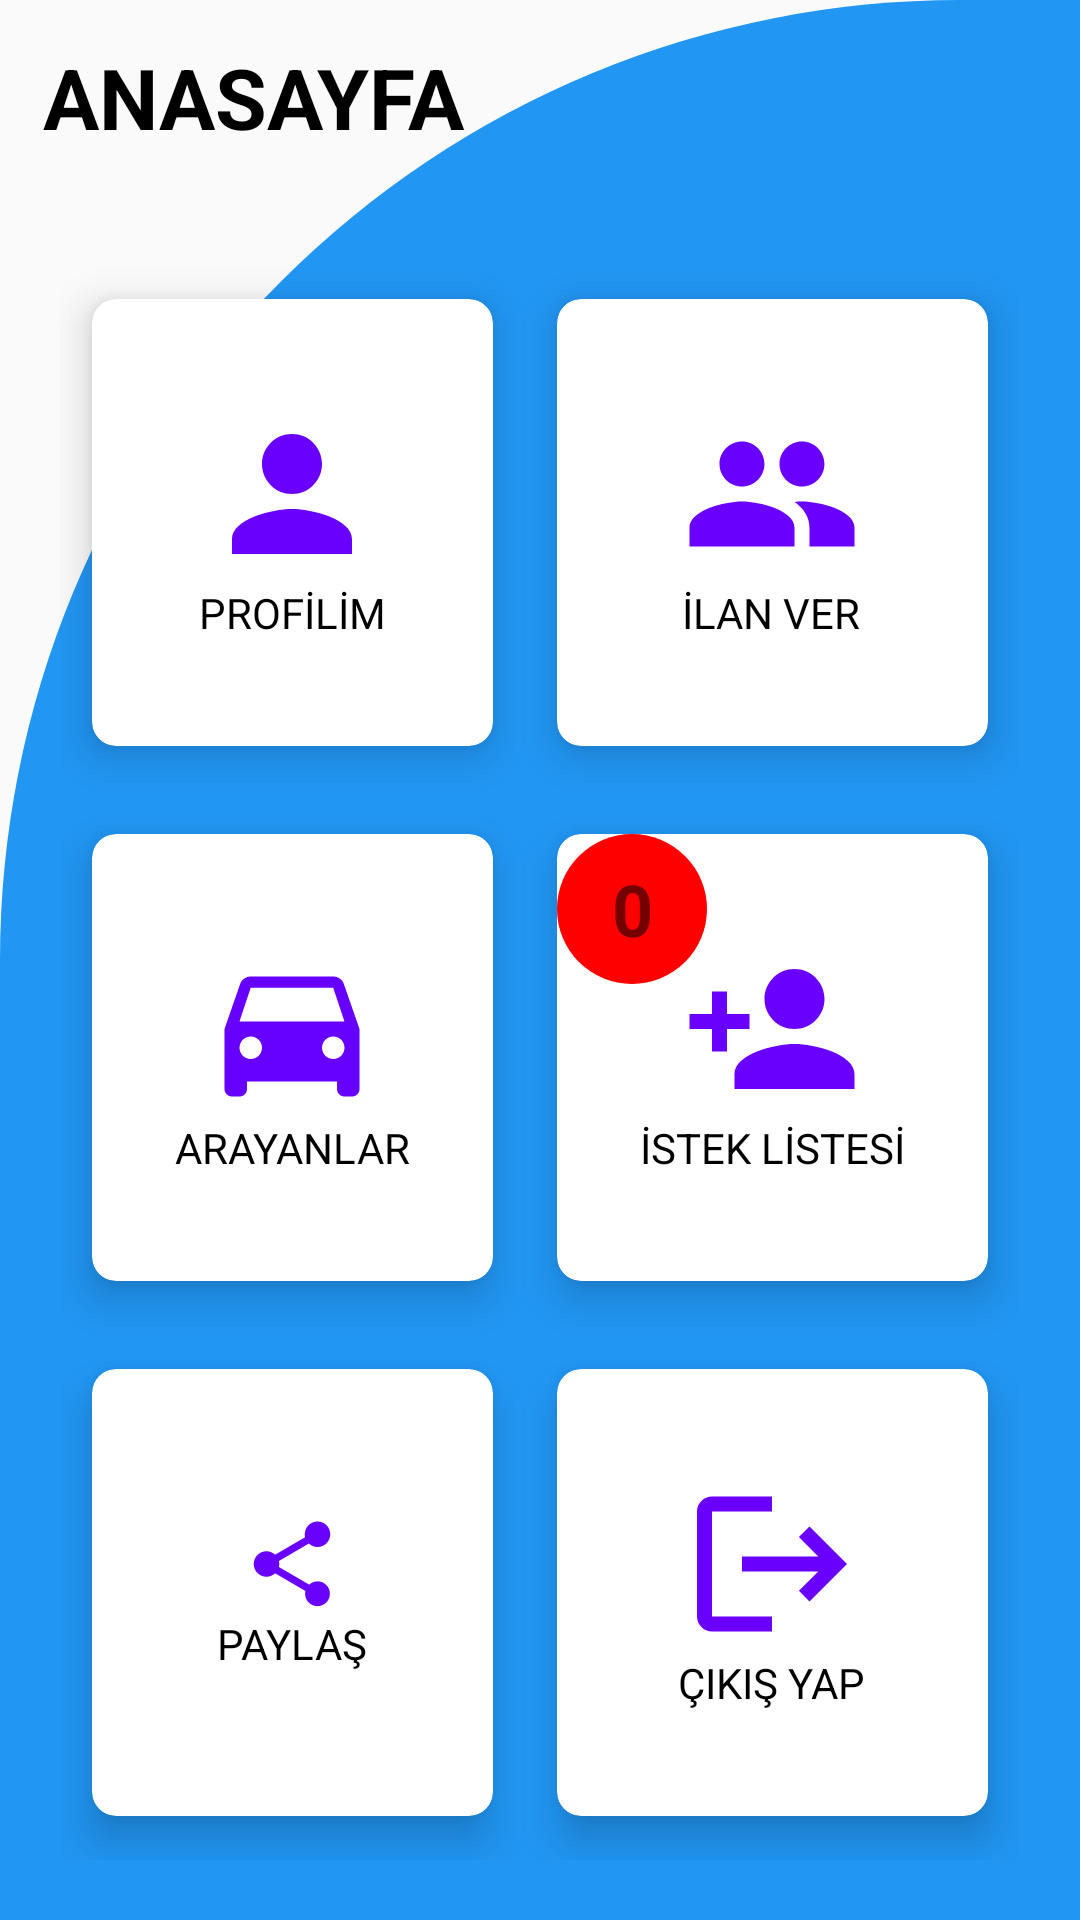

Screen size 1080*1920. Icon name, then its box in pixels as (x1, y1, x2, y2):
directions car: (224, 976, 360, 1097)
